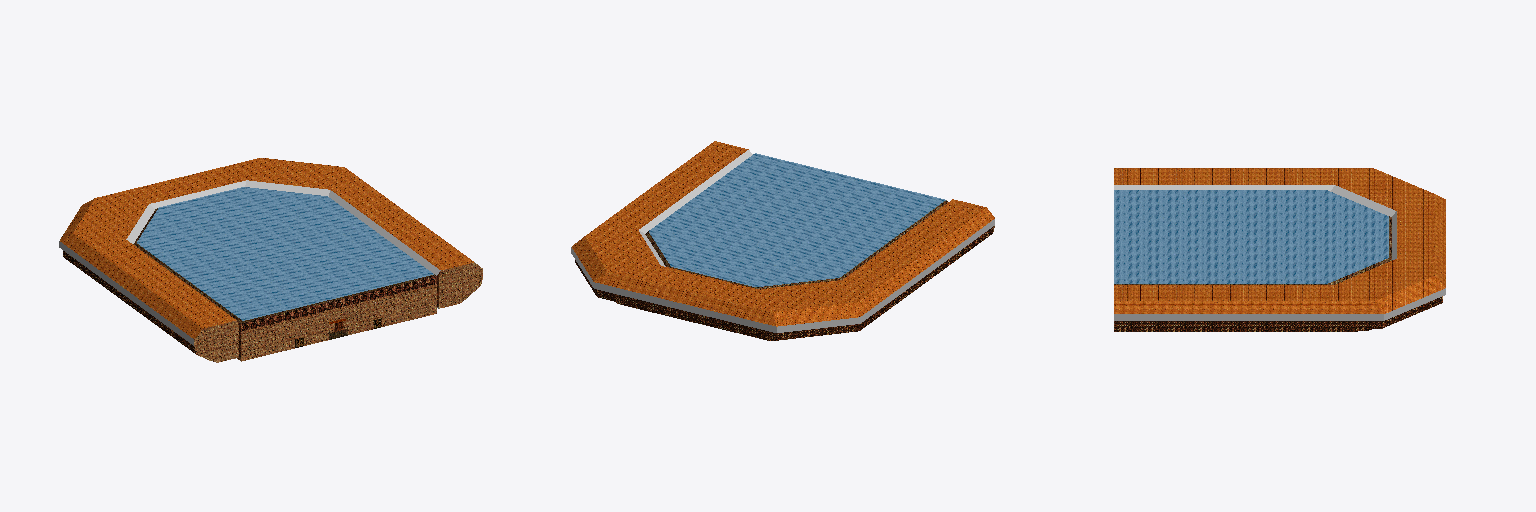
3 views of the same model, side by side, from view 1: azimuth 30°, elevation 25°; view 2: azimuth 150°, elevation 25°; view 3: azimuth 270°, elevation 25° (orthographic).
Visible parts, largest first — view 1: Room1; view 2: Room1; view 3: Room1.
Boxes of the visible parts, x1=… form: Room1: x1=59, y1=158, x2=482, y2=362; Room1: x1=571, y1=141, x2=994, y2=340; Room1: x1=1114, y1=168, x2=1445, y2=331.
Size of the model in its own units: 8704 by 1216 by 8640.
Materials: 19 (16 with a texture image).